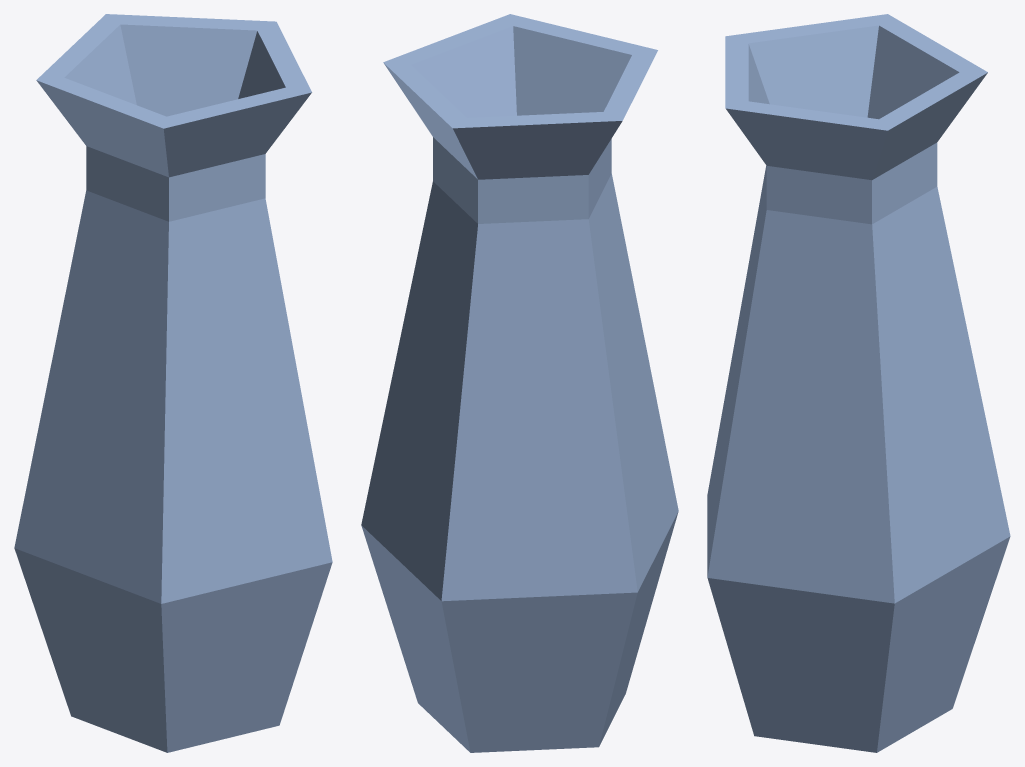
File: Vase.fbx
The picture shows the model from 3 angles, left to right: view 1: azimuth 30°, elevation 25°; view 2: azimuth 150°, elevation 25°; view 3: azimuth 270°, elevation 25°; orthographic projection.
Parts seen in each view (by area): view 1: Vase; view 2: Vase; view 3: Vase.
Part boxes in pixels (x1,y1,x2,y2): Vase: (14, 14, 332, 752); Vase: (361, 14, 678, 752); Vase: (707, 14, 1010, 752).
Bounding box in the file's own units: 8.99 × 19.82 × 8.55.
